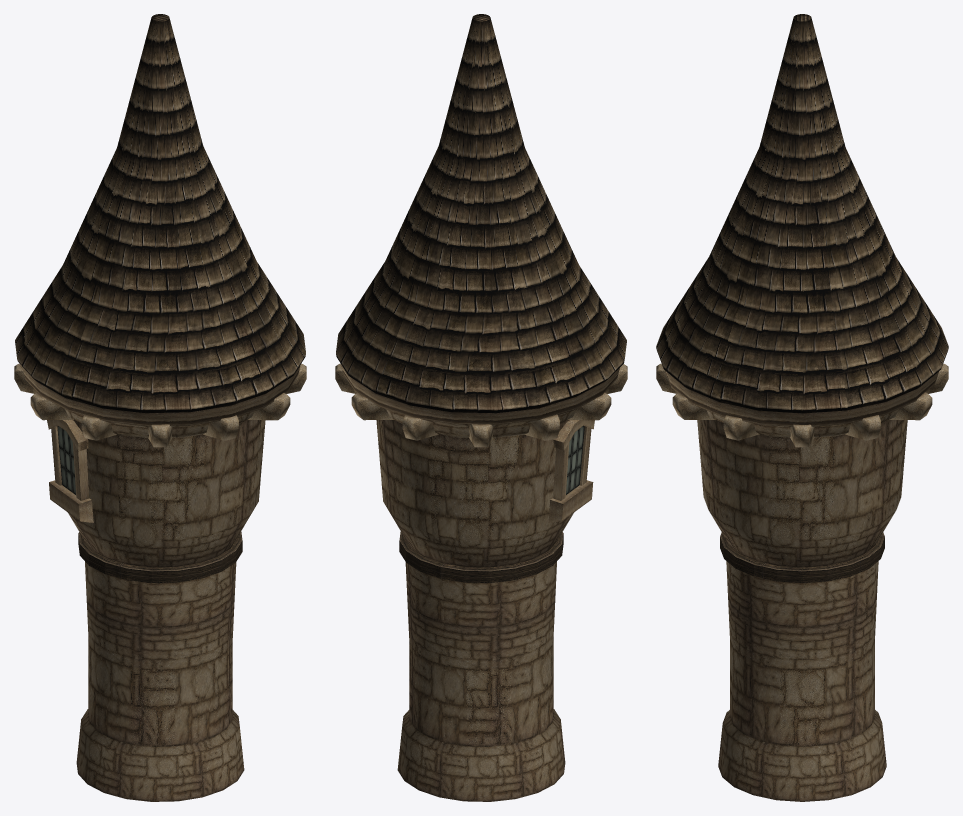
File: Tower_07.fbx
3 views of the same model, side by side, from view 1: azimuth 30°, elevation 25°; view 2: azimuth 150°, elevation 25°; view 3: azimuth 270°, elevation 25° (orthographic).
Visible parts, largest first — view 1: Tower_07; view 2: Tower_07; view 3: Tower_07.
Part boxes in pixels (x1,y1,x2,y2): Tower_07: (14, 14, 306, 801); Tower_07: (335, 14, 627, 801); Tower_07: (656, 14, 948, 801).
Bounding box in the file's own units: 13.41 × 37.83 × 13.41.
